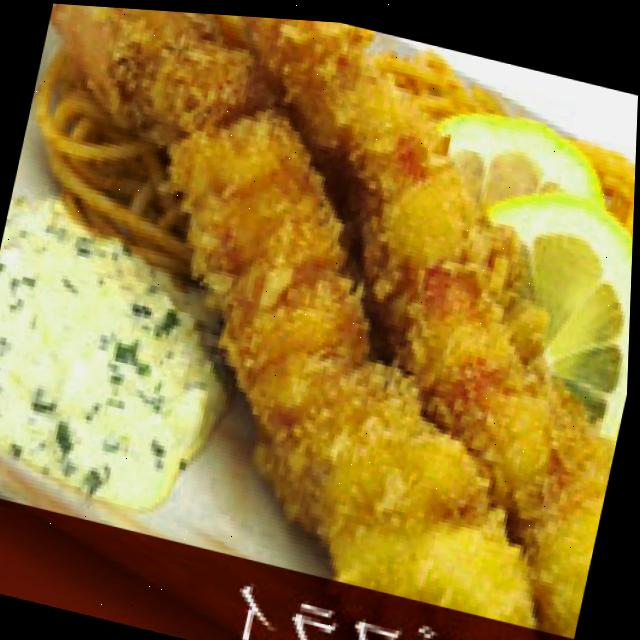炸货点心: (0, 0, 640, 624)
熟制海鲜: (0, 0, 640, 624)
